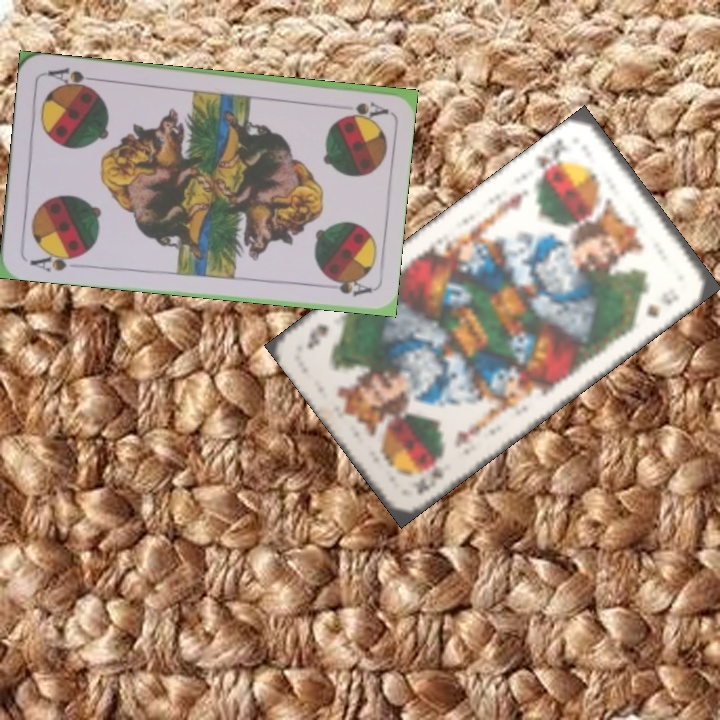SA: (26, 247, 84, 274), (346, 97, 390, 120)
SK: (531, 133, 569, 182), (409, 464, 446, 496)
